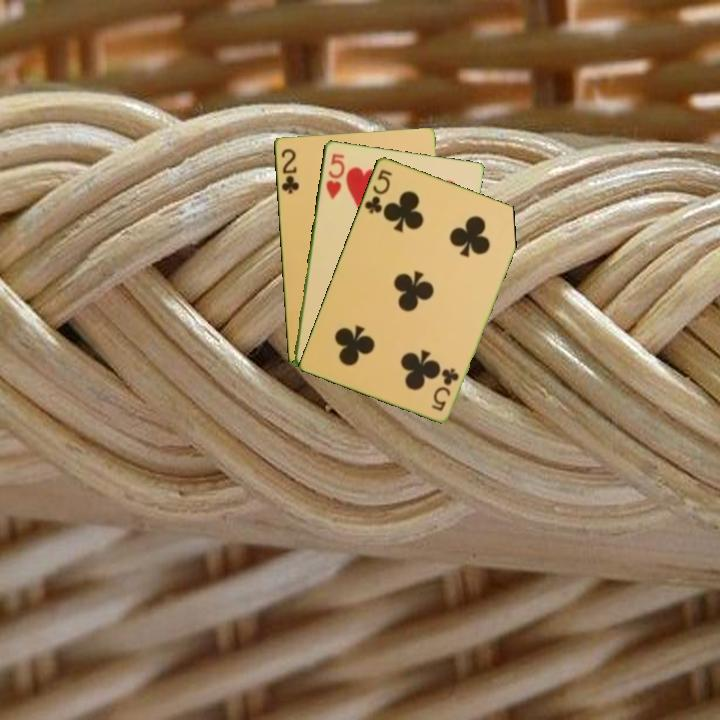2c: (277, 145, 301, 196)
5c: (360, 165, 395, 216), (427, 364, 462, 414)
5h: (322, 150, 347, 201)
